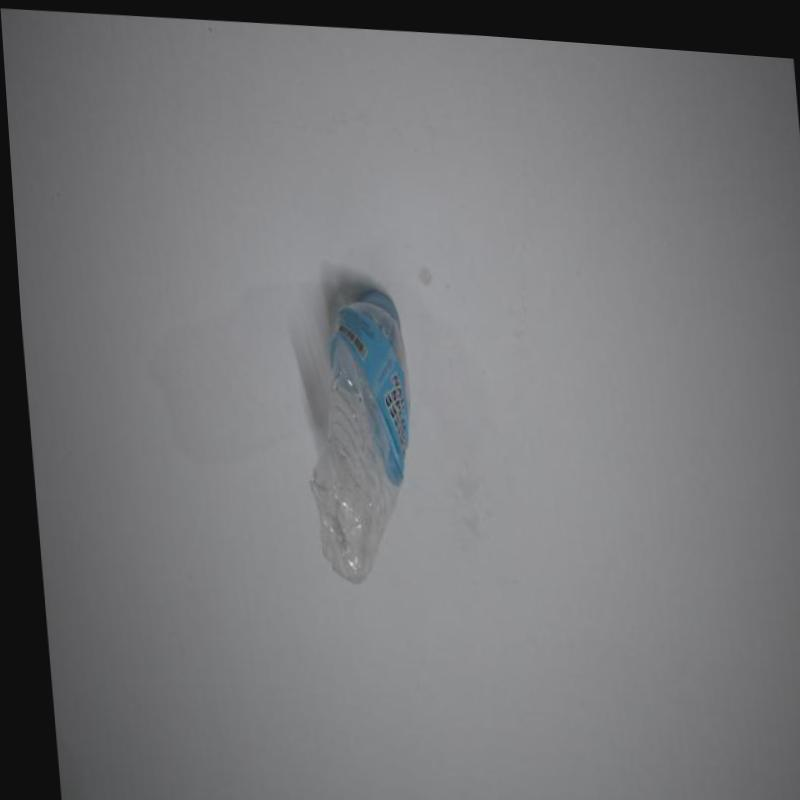botella: (285, 268, 417, 582)
